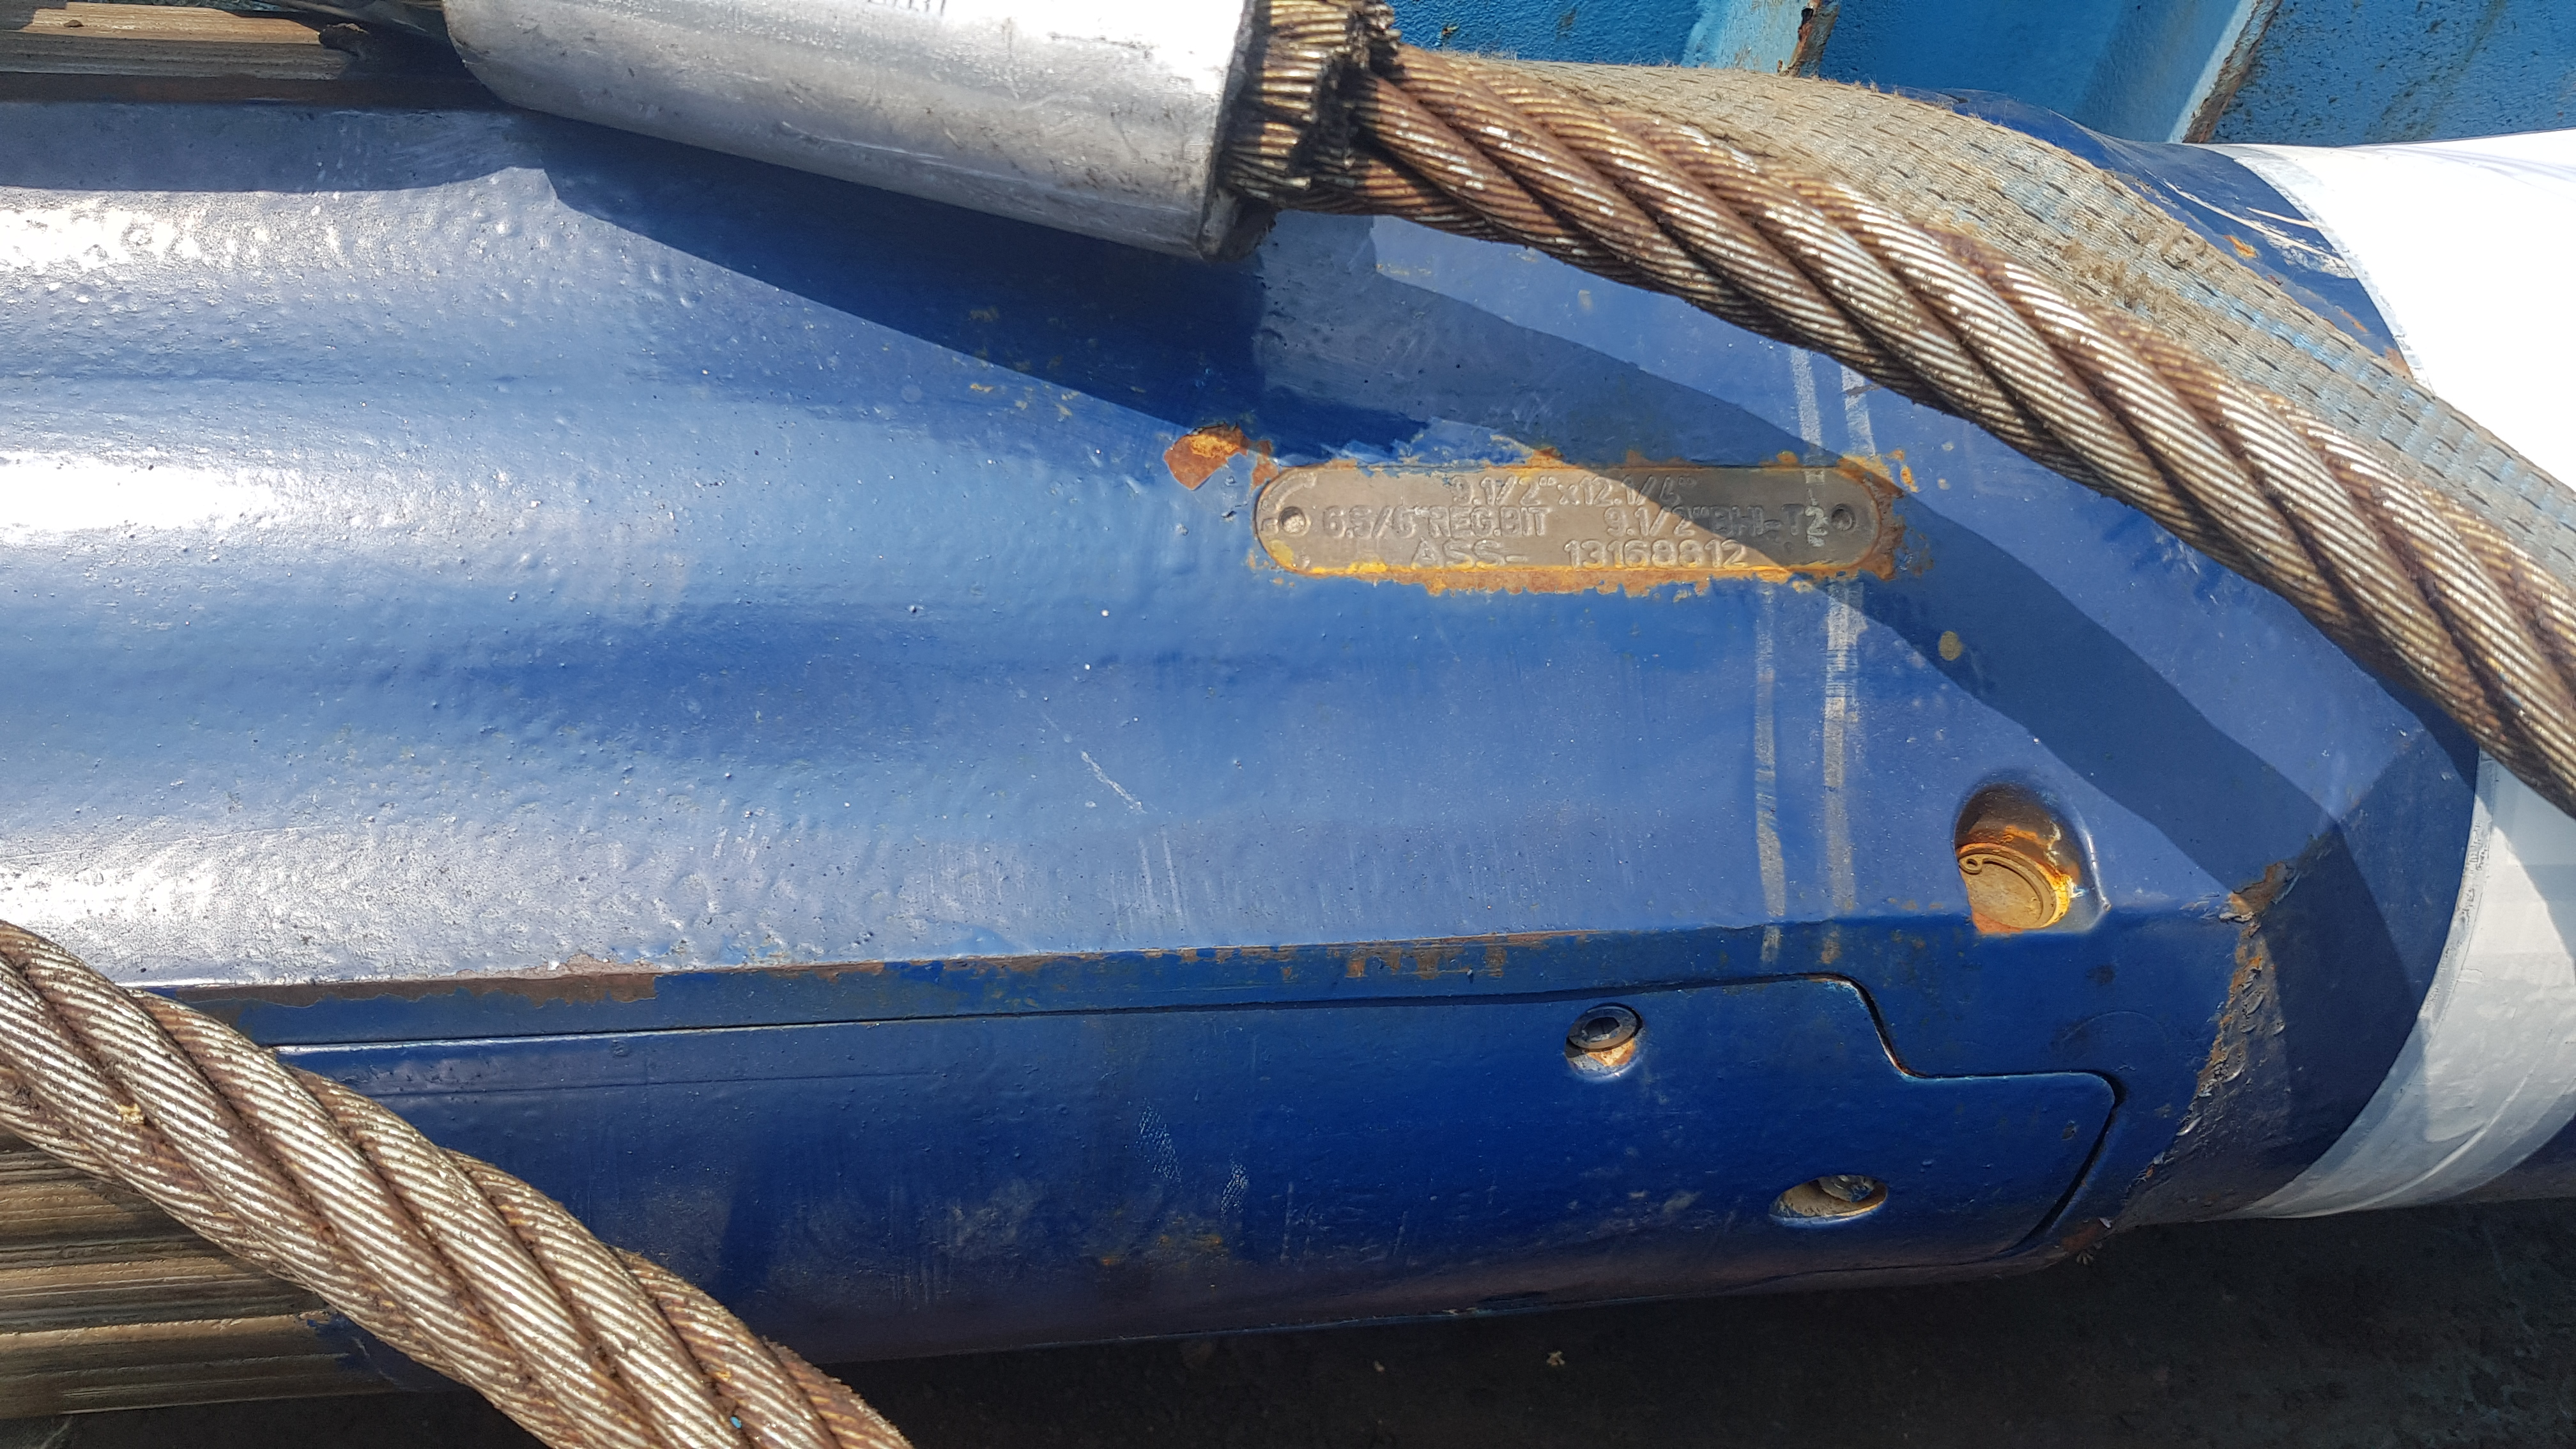character: (1440, 536, 1476, 573), (1472, 536, 1506, 571), (1408, 540, 1442, 571), (1778, 501, 1805, 538), (1348, 502, 1371, 545), (1674, 538, 1706, 568), (1621, 540, 1651, 570), (1649, 538, 1677, 570), (1320, 504, 1343, 543), (1578, 536, 1605, 570), (1447, 472, 1474, 506), (1497, 504, 1522, 540), (1392, 502, 1415, 540), (1449, 504, 1472, 541), (1723, 538, 1750, 570), (1599, 506, 1626, 538), (1513, 476, 1539, 508), (1465, 504, 1490, 538), (1562, 538, 1585, 573), (1702, 536, 1725, 571), (1426, 502, 1449, 538), (1672, 504, 1695, 540), (1707, 504, 1730, 540), (1603, 538, 1628, 570), (1806, 504, 1828, 541), (1730, 504, 1753, 538), (1635, 474, 1658, 508), (1371, 504, 1392, 540), (1530, 504, 1552, 538), (1660, 476, 1681, 508), (1619, 474, 1638, 508), (1592, 476, 1614, 506), (1748, 502, 1764, 541), (1479, 472, 1499, 504), (1555, 485, 1580, 510), (1633, 504, 1651, 538), (1516, 508, 1530, 543), (1580, 476, 1592, 506)
